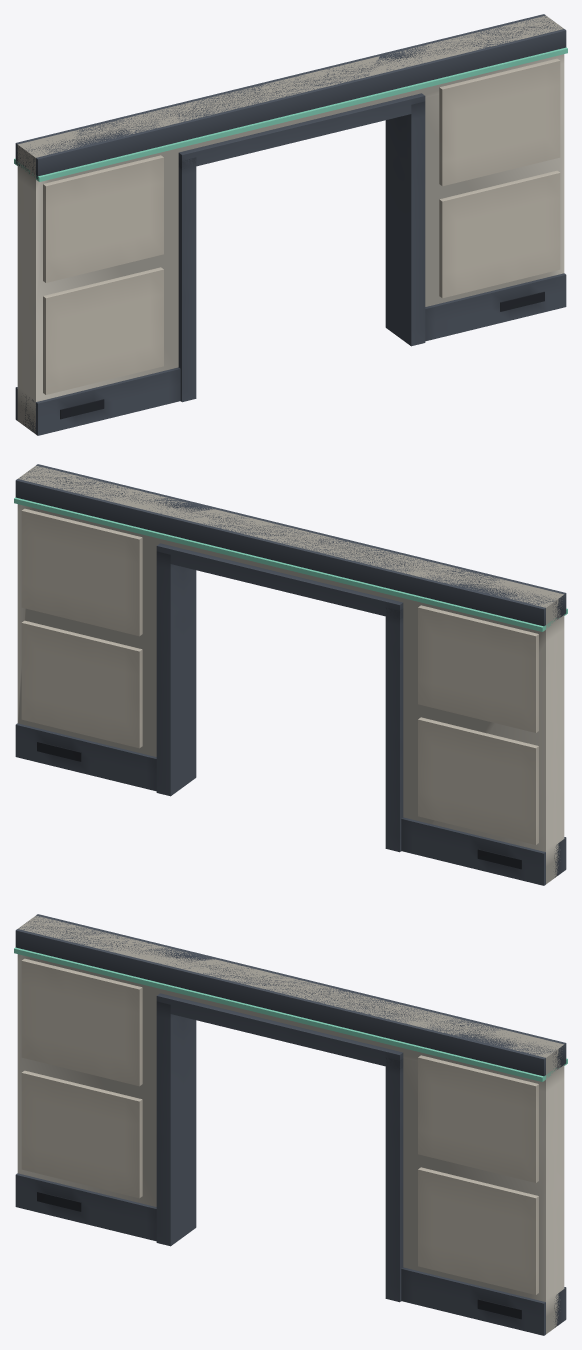
Rendered from CK1_WallDoor.glb.
3 views of the same model, one above another, from view 1: azimuth 30°, elevation 25°; view 2: azimuth 150°, elevation 25°; view 3: azimuth 330°, elevation 25° (orthographic).
Parts seen in each view (by area): view 1: CK1_WallDoor; view 2: CK1_WallDoor; view 3: CK1_WallDoor.
Part boxes in pixels (x1,y1,x2,y2): CK1_WallDoor: (14, 14, 567, 435); CK1_WallDoor: (14, 464, 567, 885); CK1_WallDoor: (14, 914, 567, 1335).
Size of the model in its own units: 6 by 3 by 0.5.
